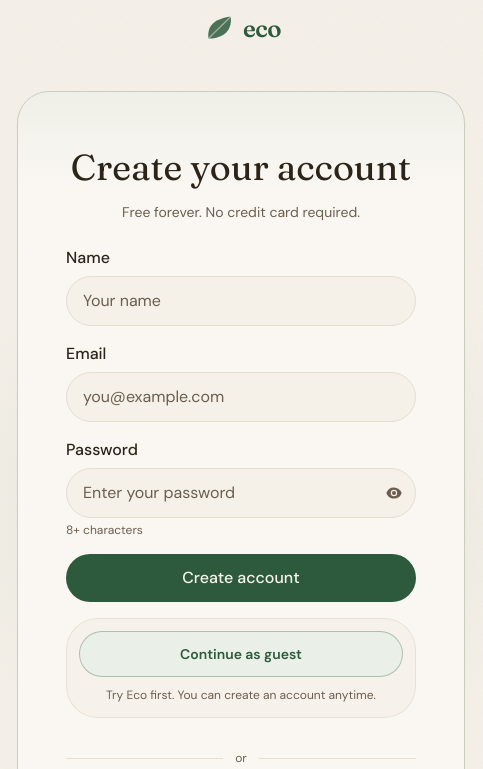
Test: SignUpPage › shows an inline invalid-email error before submit reaches auth
Type "Eco Tester" into the field labelled "Name".
click(241, 301); type("Eco Tester")  # box [66,276,416,326]
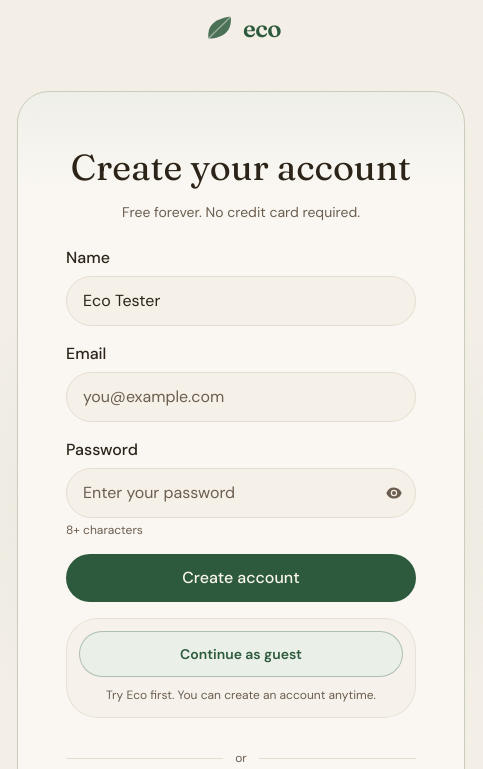
Type "not-an-email" into the field labelled "Email".
click(241, 397); type("not-an-email")  # box [66,372,416,422]
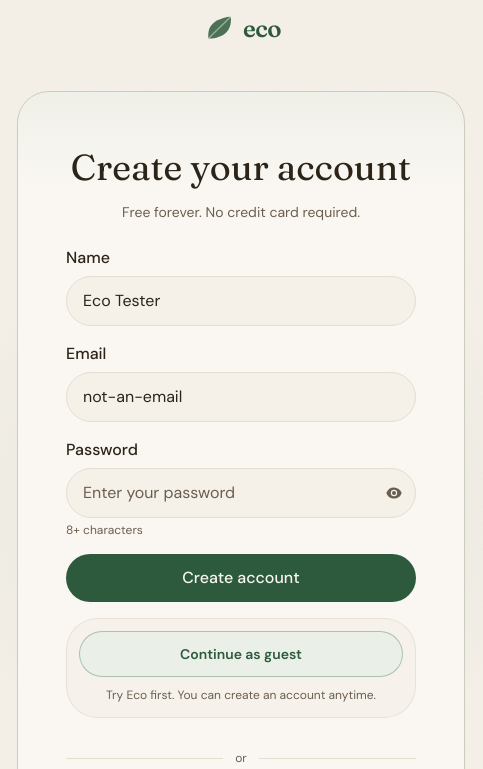
Type "secret123" into the password field labelled "Password".
click(241, 493); type("secret123")  # box [66,468,416,518]
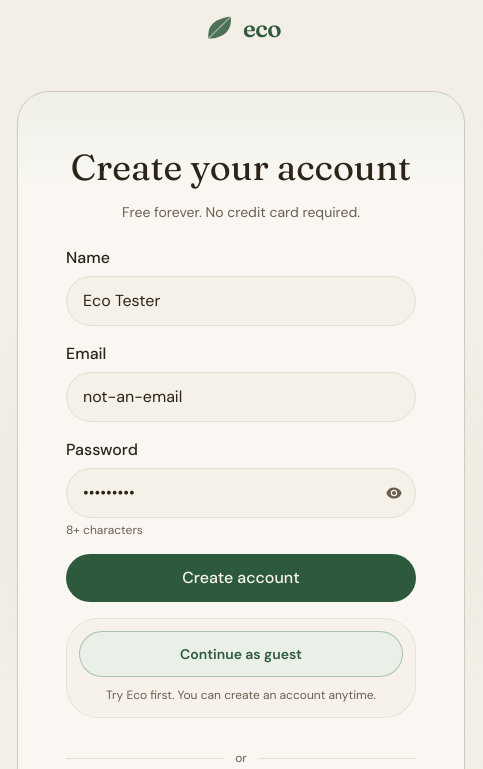
Click the button "Create account".
click(241, 578)  # box [66,554,416,602]
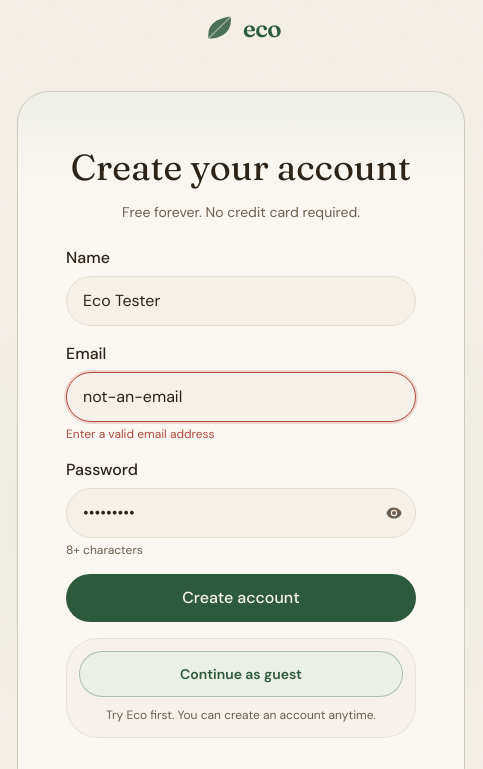
Check: the text "Enter a valid email address" is shown, box [66,426,215,442]
